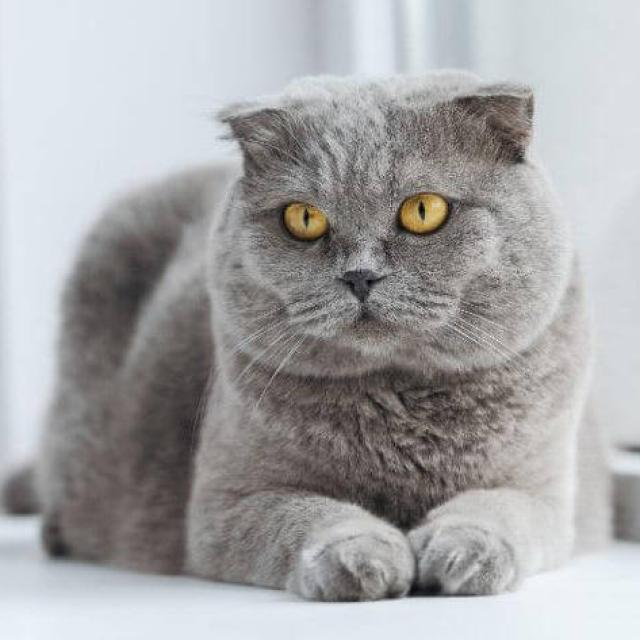Scottish Fold: (0, 55, 621, 608)
